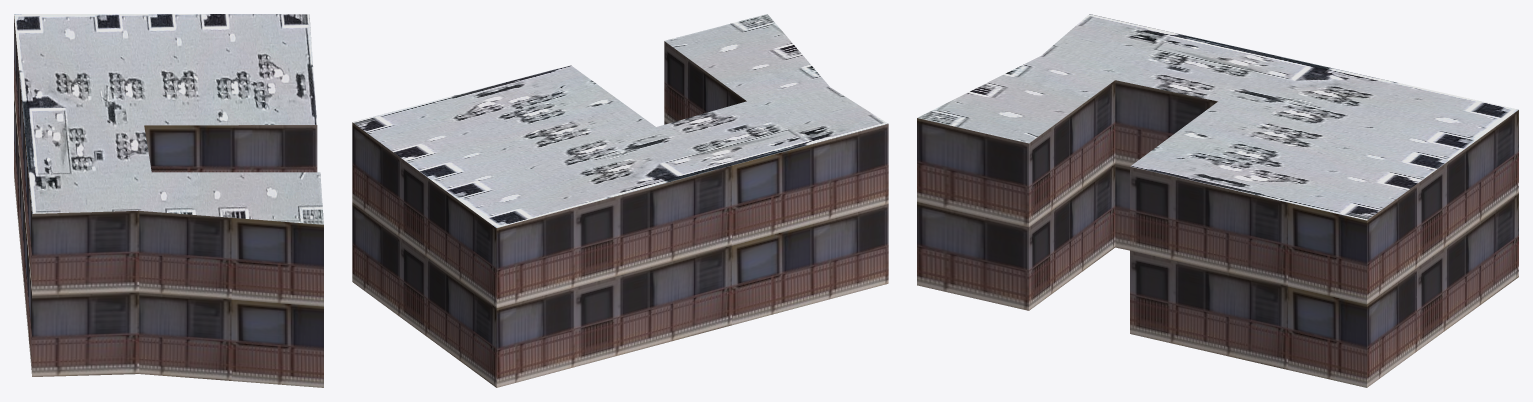
The model's file is ResTex__4056.fbx.
The picture shows the model from 3 angles, left to right: view 1: azimuth 30°, elevation 25°; view 2: azimuth 150°, elevation 25°; view 3: azimuth 270°, elevation 25°; orthographic projection. The views are drawn at different scales.
Parts seen in each view (by area): view 1: CityEngineMaterial_6_m, CityEngineMaterial_4_m; view 2: CityEngineMaterial_6_m, CityEngineMaterial_4_m; view 3: CityEngineMaterial_6_m, CityEngineMaterial_4_m.
Part boxes in pixels (box(x1,y1,x2,y2)): CityEngineMaterial_6_m: box(14, 16, 323, 387); CityEngineMaterial_4_m: box(14, 14, 323, 224); CityEngineMaterial_6_m: box(352, 41, 888, 387); CityEngineMaterial_4_m: box(352, 14, 888, 227); CityEngineMaterial_6_m: box(917, 80, 1518, 387); CityEngineMaterial_4_m: box(917, 14, 1518, 220).
Size of the model in its own units: 15.87 by 6 by 19.55.
Materials: 2 (2 with a texture image).
